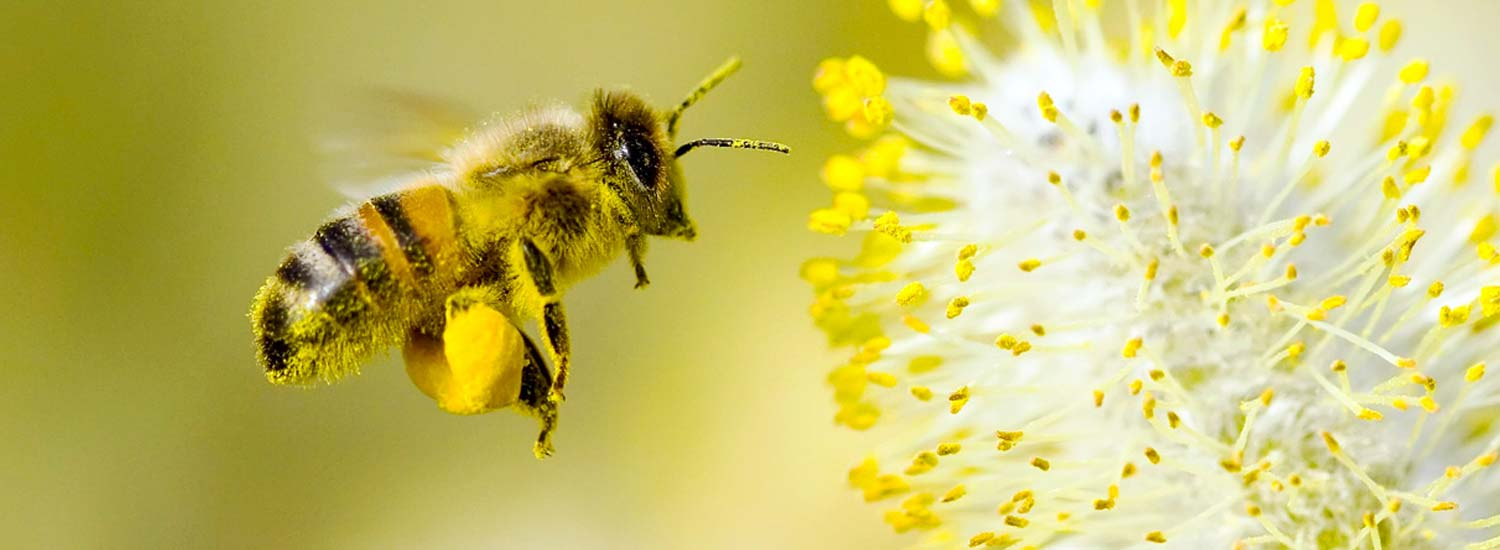bee: (237, 85, 749, 428)
